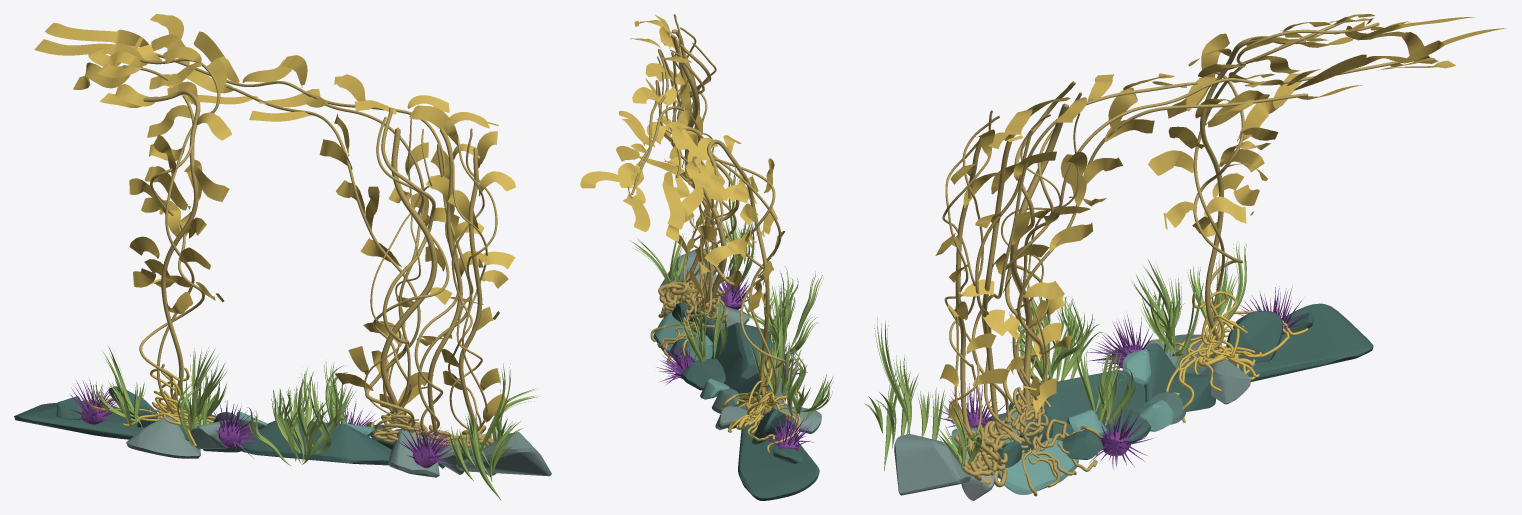
Rendered from kelp_forest_sketch.glb.
The picture shows the model from 3 angles, left to right: view 1: azimuth 30°, elevation 25°; view 2: azimuth 150°, elevation 25°; view 3: azimuth 270°, elevation 25°; orthographic projection. The views are drawn at different scales.
Parts seen in each view (by area): view 1: brush_DoubleTaperedFlat_g0_b0_5, brush_Icing_g0_b0_3, brush_ShinyHull_g0_b0_0, brush_Petal_g0_b0_6, brush_Spikes_g0_b0_8, brush_MatteHull_g0_b0_7; view 2: brush_ShinyHull_g0_b0_0, brush_DoubleTaperedFlat_g0_b0_5, brush_Icing_g0_b0_3, brush_Petal_g0_b0_6, brush_Spikes_g0_b0_8, brush_MatteHull_g0_b0_7; view 3: brush_Icing_g0_b0_3, brush_DoubleTaperedFlat_g0_b0_5, brush_ShinyHull_g0_b0_0, brush_Petal_g0_b0_6, brush_Spikes_g0_b0_8, brush_MatteHull_g0_b0_7.
Boxes of the visible parts, x1,y1,x2,y2 form: brush_DoubleTaperedFlat_g0_b0_5: (34,14,515,422); brush_Icing_g0_b0_3: (84,53,497,447); brush_ShinyHull_g0_b0_0: (14,386,551,477); brush_Petal_g0_b0_6: (90,346,538,500); brush_Spikes_g0_b0_8: (69,379,455,465); brush_MatteHull_g0_b0_7: (81,402,438,468); brush_ShinyHull_g0_b0_0: (653,248,821,500); brush_DoubleTaperedFlat_g0_b0_5: (580,14,784,316); brush_Icing_g0_b0_3: (631,14,800,452); brush_Petal_g0_b0_6: (629,166,833,420); brush_Spikes_g0_b0_8: (656,269,814,447); brush_MatteHull_g0_b0_7: (675,289,798,450); brush_Icing_g0_b0_3: (942,18,1403,496); brush_DoubleTaperedFlat_g0_b0_5: (935,14,1505,427); brush_ShinyHull_g0_b0_0: (894,303,1373,500); brush_Petal_g0_b0_6: (864,242,1246,470); brush_Spikes_g0_b0_8: (931,284,1306,469); brush_MatteHull_g0_b0_7: (967,323,1288,455).
Size of the model in its own units: 1.72 by 1.62 by 2.37.
